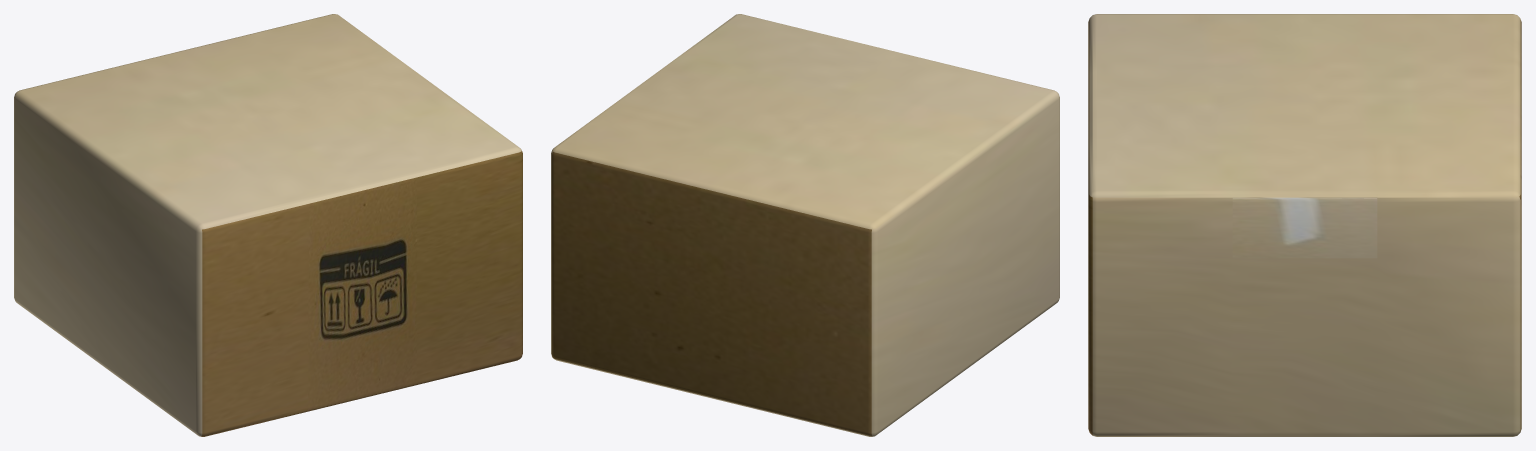
Rendered from Delivery Package.glb.
3 views of the same model, side by side, from view 1: azimuth 30°, elevation 25°; view 2: azimuth 150°, elevation 25°; view 3: azimuth 270°, elevation 25° (orthographic). The views are drawn at different scales.
Visible parts, largest first — view 1: box package; view 2: box package; view 3: box package.
Part boxes in pixels (box(x1,y1,x2,y2)): box package: box(14, 14, 522, 436); box package: box(551, 14, 1059, 436); box package: box(1088, 14, 1521, 436).
Size of the model in its own units: 5 by 3.12 by 5.
1 material, 1 textured.
